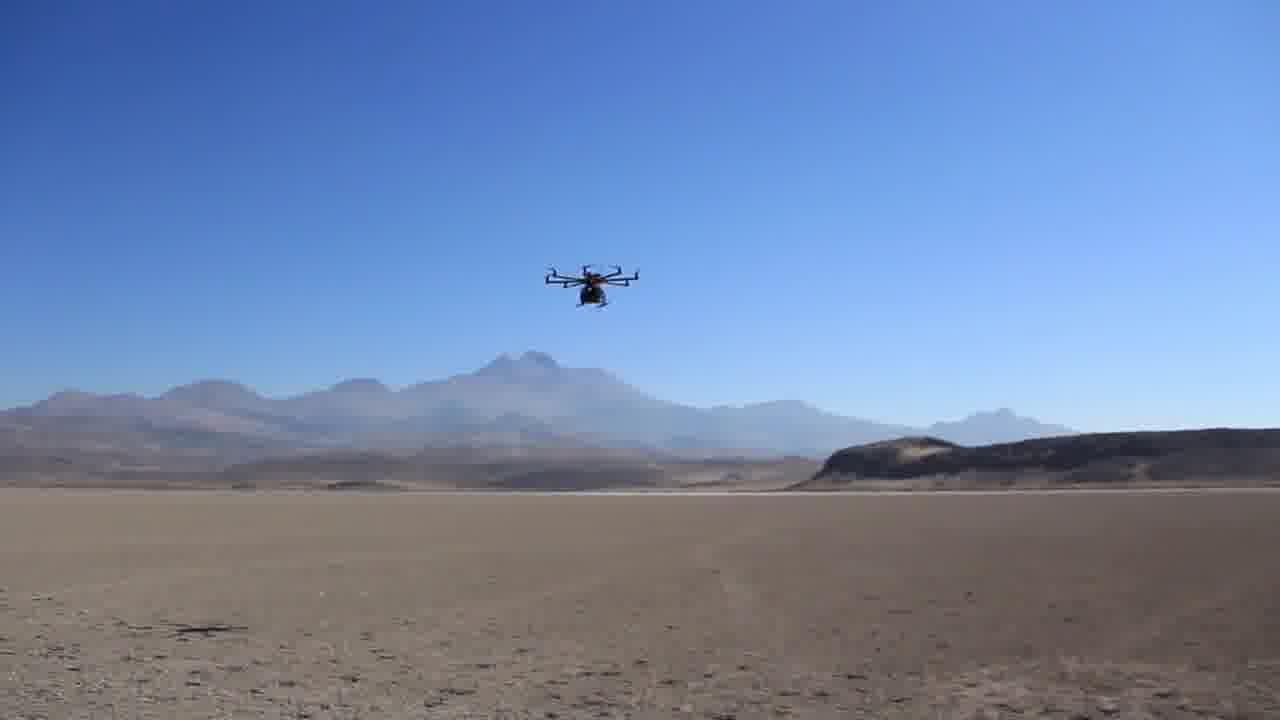drone: (534, 255, 647, 314)
